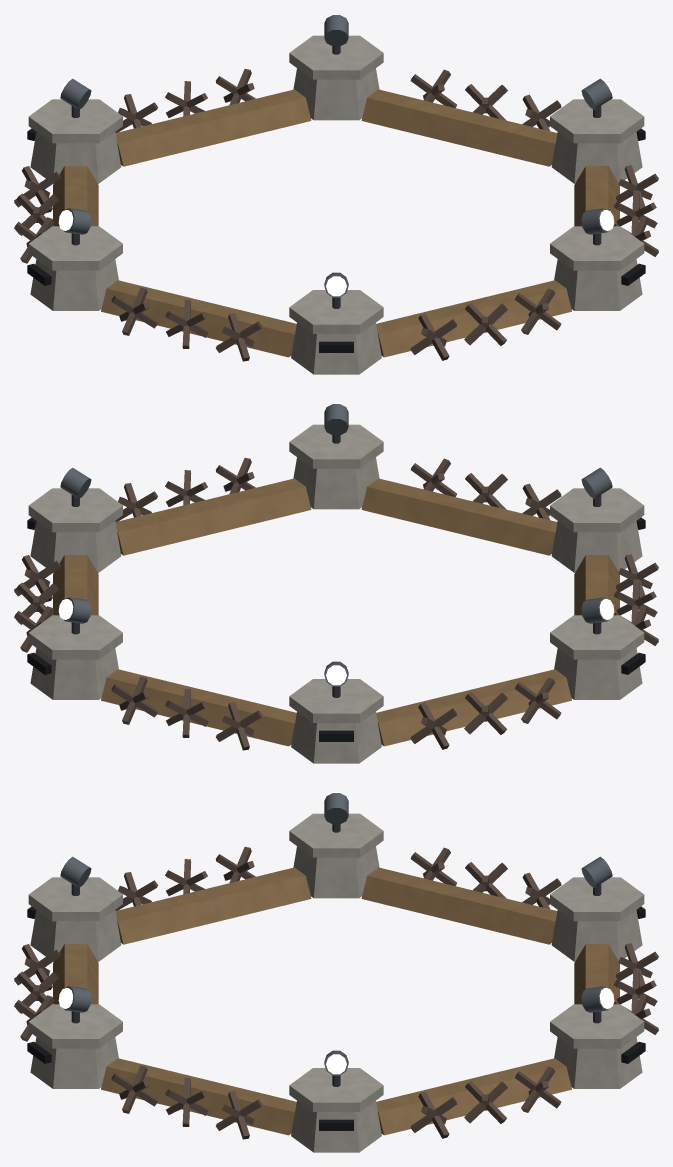
The model's file is fort_l6.glb.
3 views of the same model, one above another, from view 1: azimuth 30°, elevation 25°; view 2: azimuth 150°, elevation 25°; view 3: azimuth 270°, elevation 25° (orthographic).
Parts seen in each view (by area): view 1: fort_l6; view 2: fort_l6; view 3: fort_l6.
Boxes of the visible parts, x1,y1,x2,y2 form: fort_l6: (14,14,658,374); fort_l6: (14,403,658,763); fort_l6: (14,792,658,1152).
Size of the model in its own units: 1.98 by 0.2725 by 1.84.
2 materials, 1 textured.
